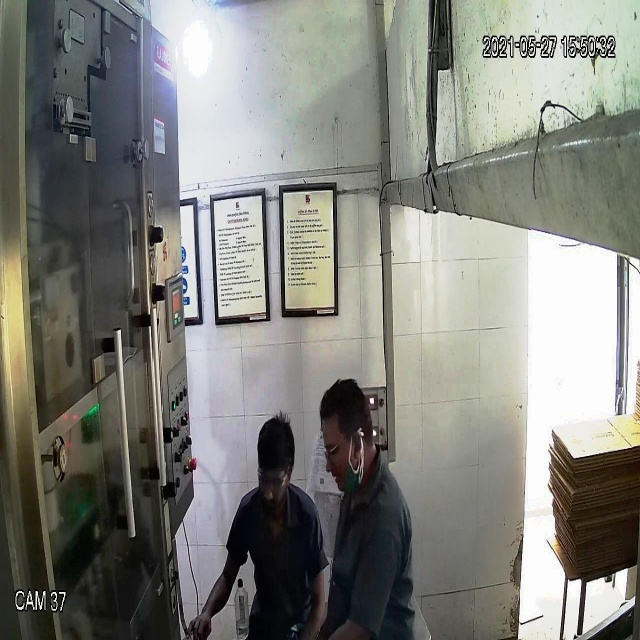Gafas: (255, 462, 294, 492), (320, 434, 358, 464)
